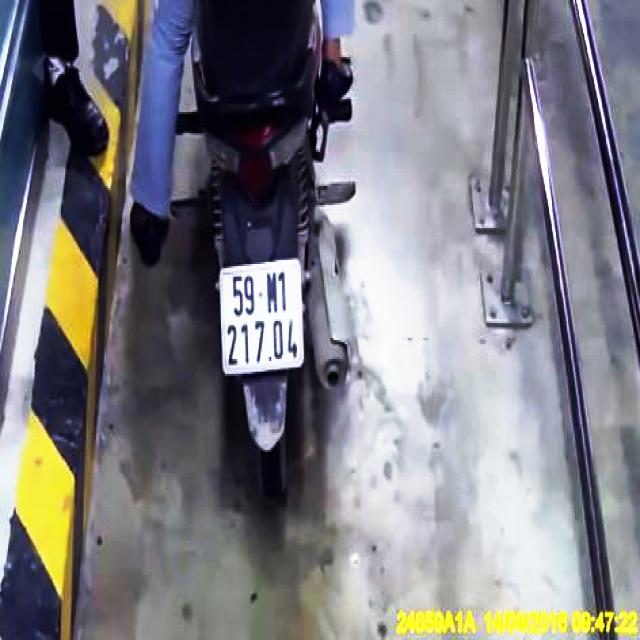license_plate: (222, 258, 304, 371)
